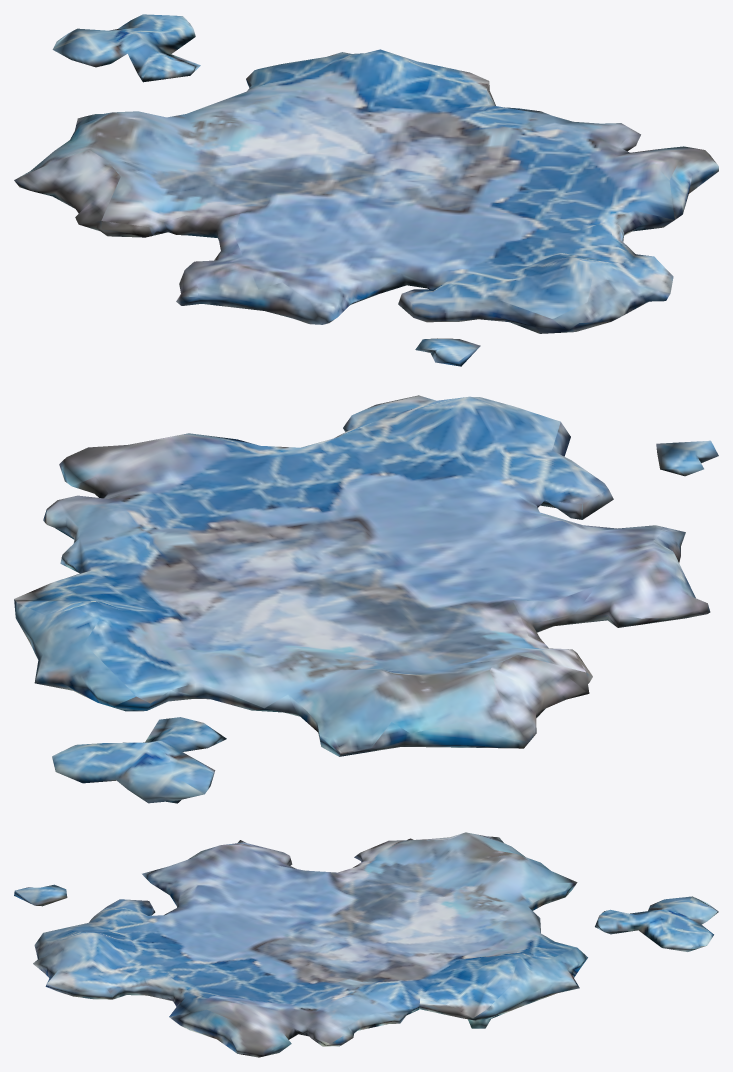
Rendered from SecondRoom_IceSheet.fbx.
The picture shows the model from 3 angles, top to bottom: view 1: azimuth 30°, elevation 25°; view 2: azimuth 150°, elevation 25°; view 3: azimuth 270°, elevation 25°; orthographic projection. The views are drawn at different scales.
Visible parts, largest first — view 1: SecondRoom_IceSheet_Mesh; view 2: SecondRoom_IceSheet_Mesh; view 3: SecondRoom_IceSheet_Mesh.
Boxes of the visible parts, x1,y1,x2,y2 form: SecondRoom_IceSheet_Mesh: [14, 14, 718, 366]; SecondRoom_IceSheet_Mesh: [14, 395, 718, 803]; SecondRoom_IceSheet_Mesh: [14, 832, 718, 1057].
Size of the model in its own units: 4.35 by 0.4949 by 6.
1 material, 1 textured.
